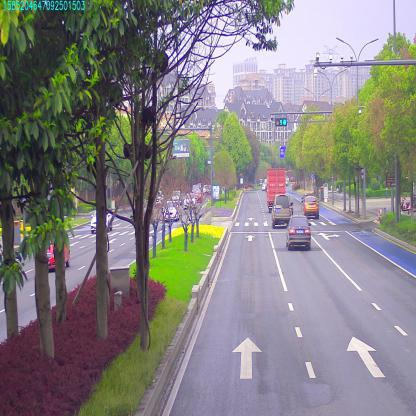traffic-light: (275, 118, 286, 127)
